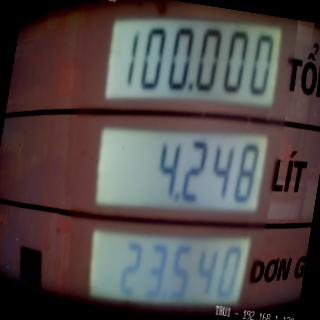screen: (65, 0, 295, 320)
